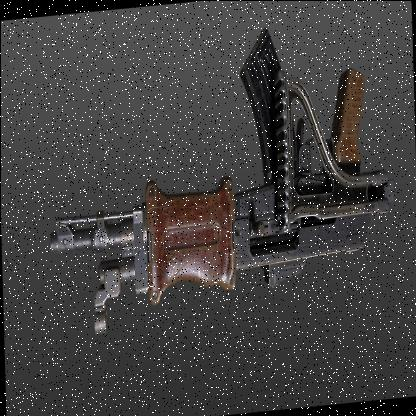rifle: (38, 18, 388, 305)
